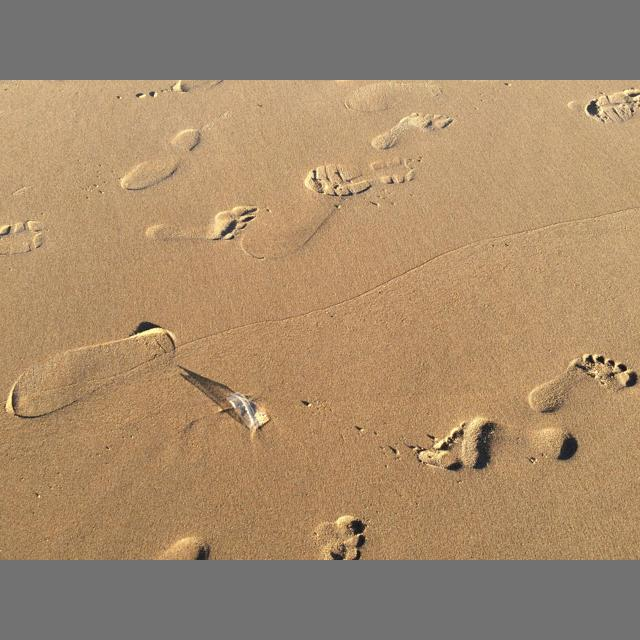litter: (226, 392, 269, 432)
